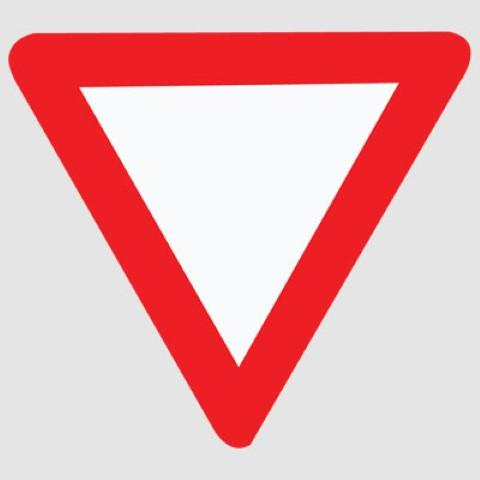Give Way: (24, 19, 440, 432)
